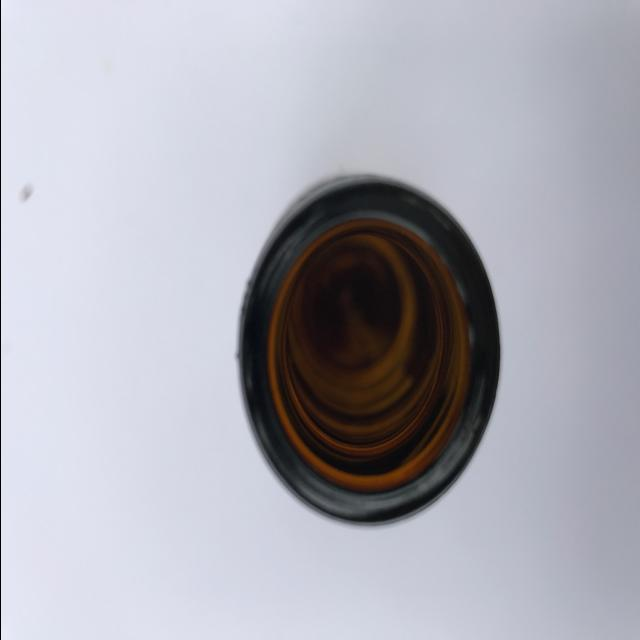glass: (232, 169, 508, 527)
